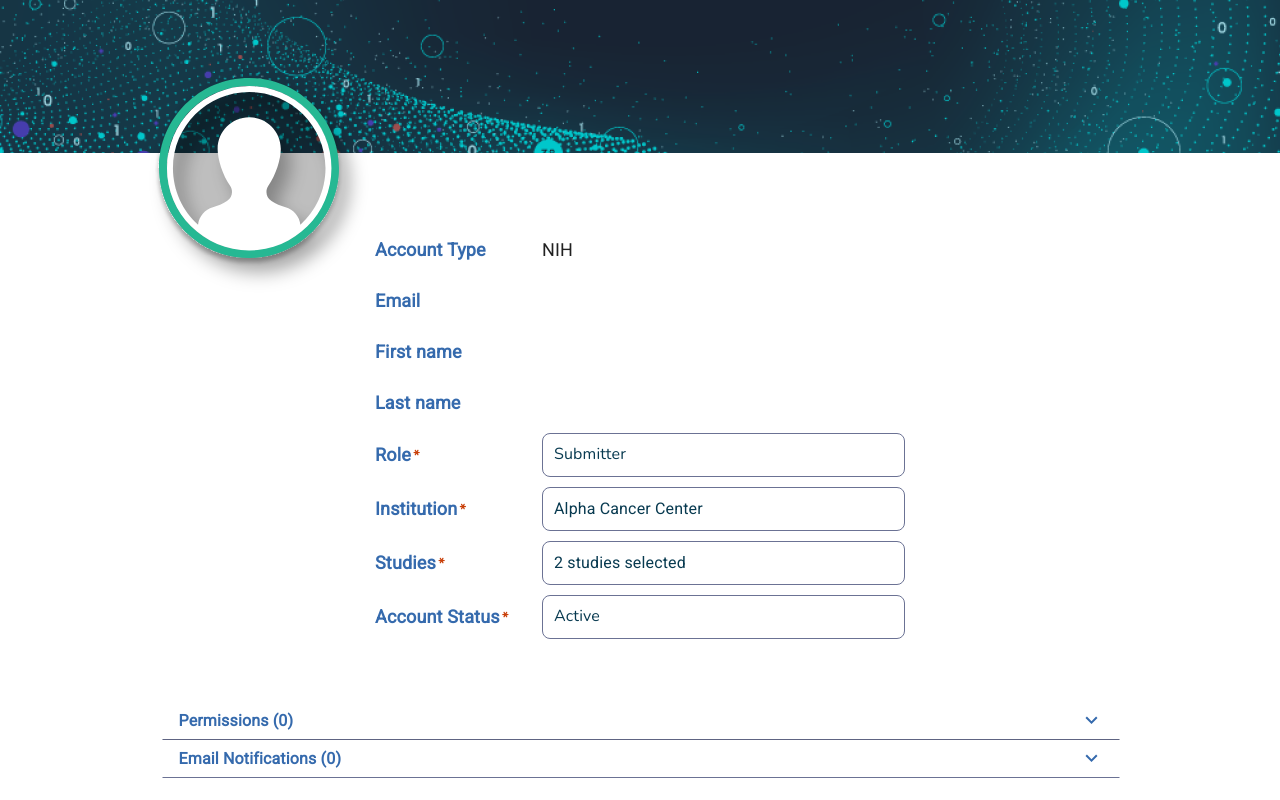
Test case: Implementation Requirements › should show institution suggestions as user types (dynamic filtering)
The width and height of the screenshot is (1280, 800).
Replace the text in the dropdown labelled "Institution*" with "Beta". click: (724,508)
box: top-left (542, 486), bottom-right (905, 530)
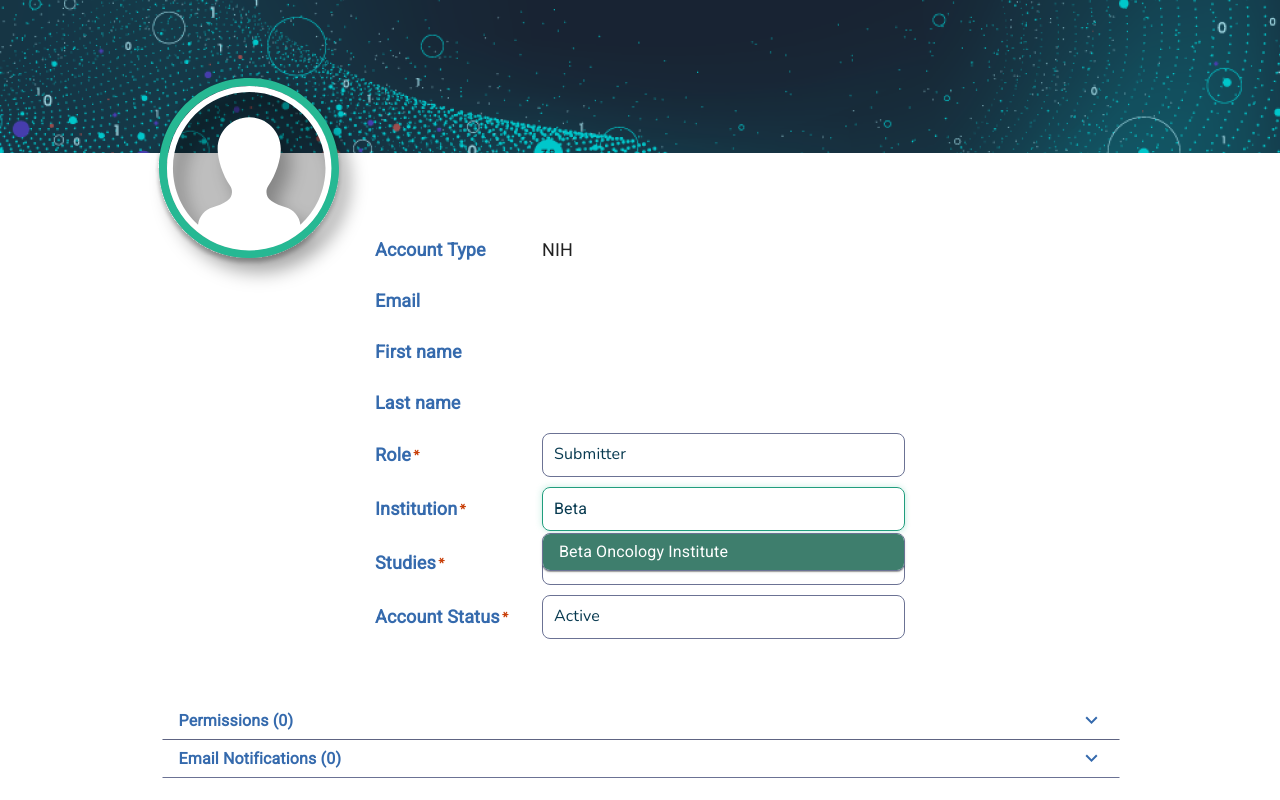
Expected: the option "Beta Oncology Institute" is shown, top-left (543, 534), bottom-right (904, 570)
Expected: the option "Alpha Cancer Center" is gone
